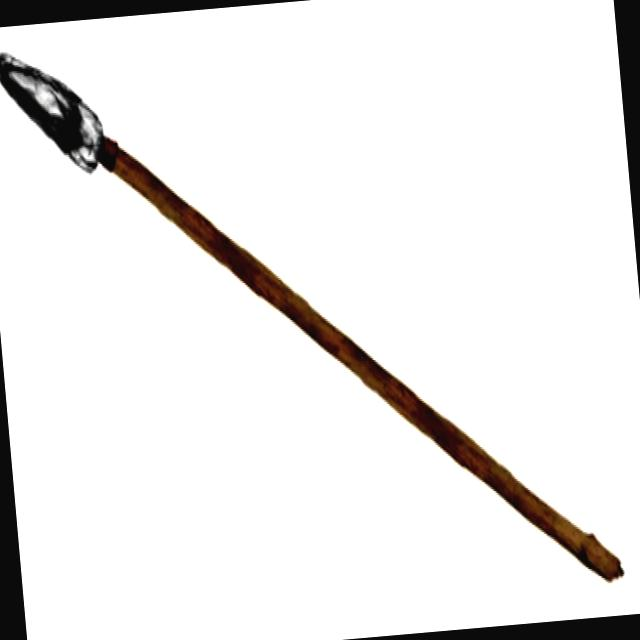spear: (0, 0, 636, 638)
